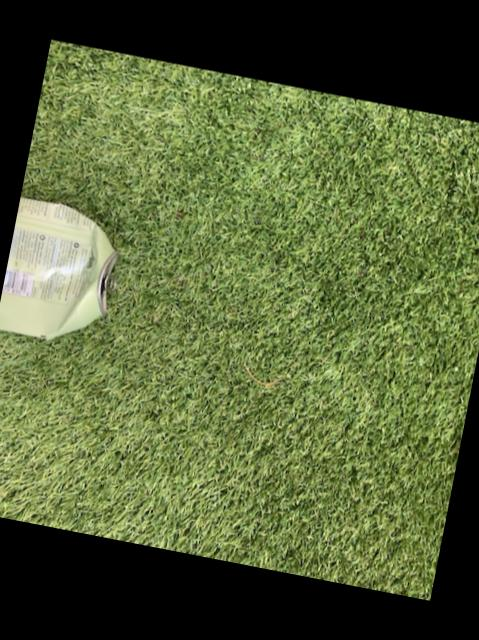metal: (0, 195, 117, 337)
